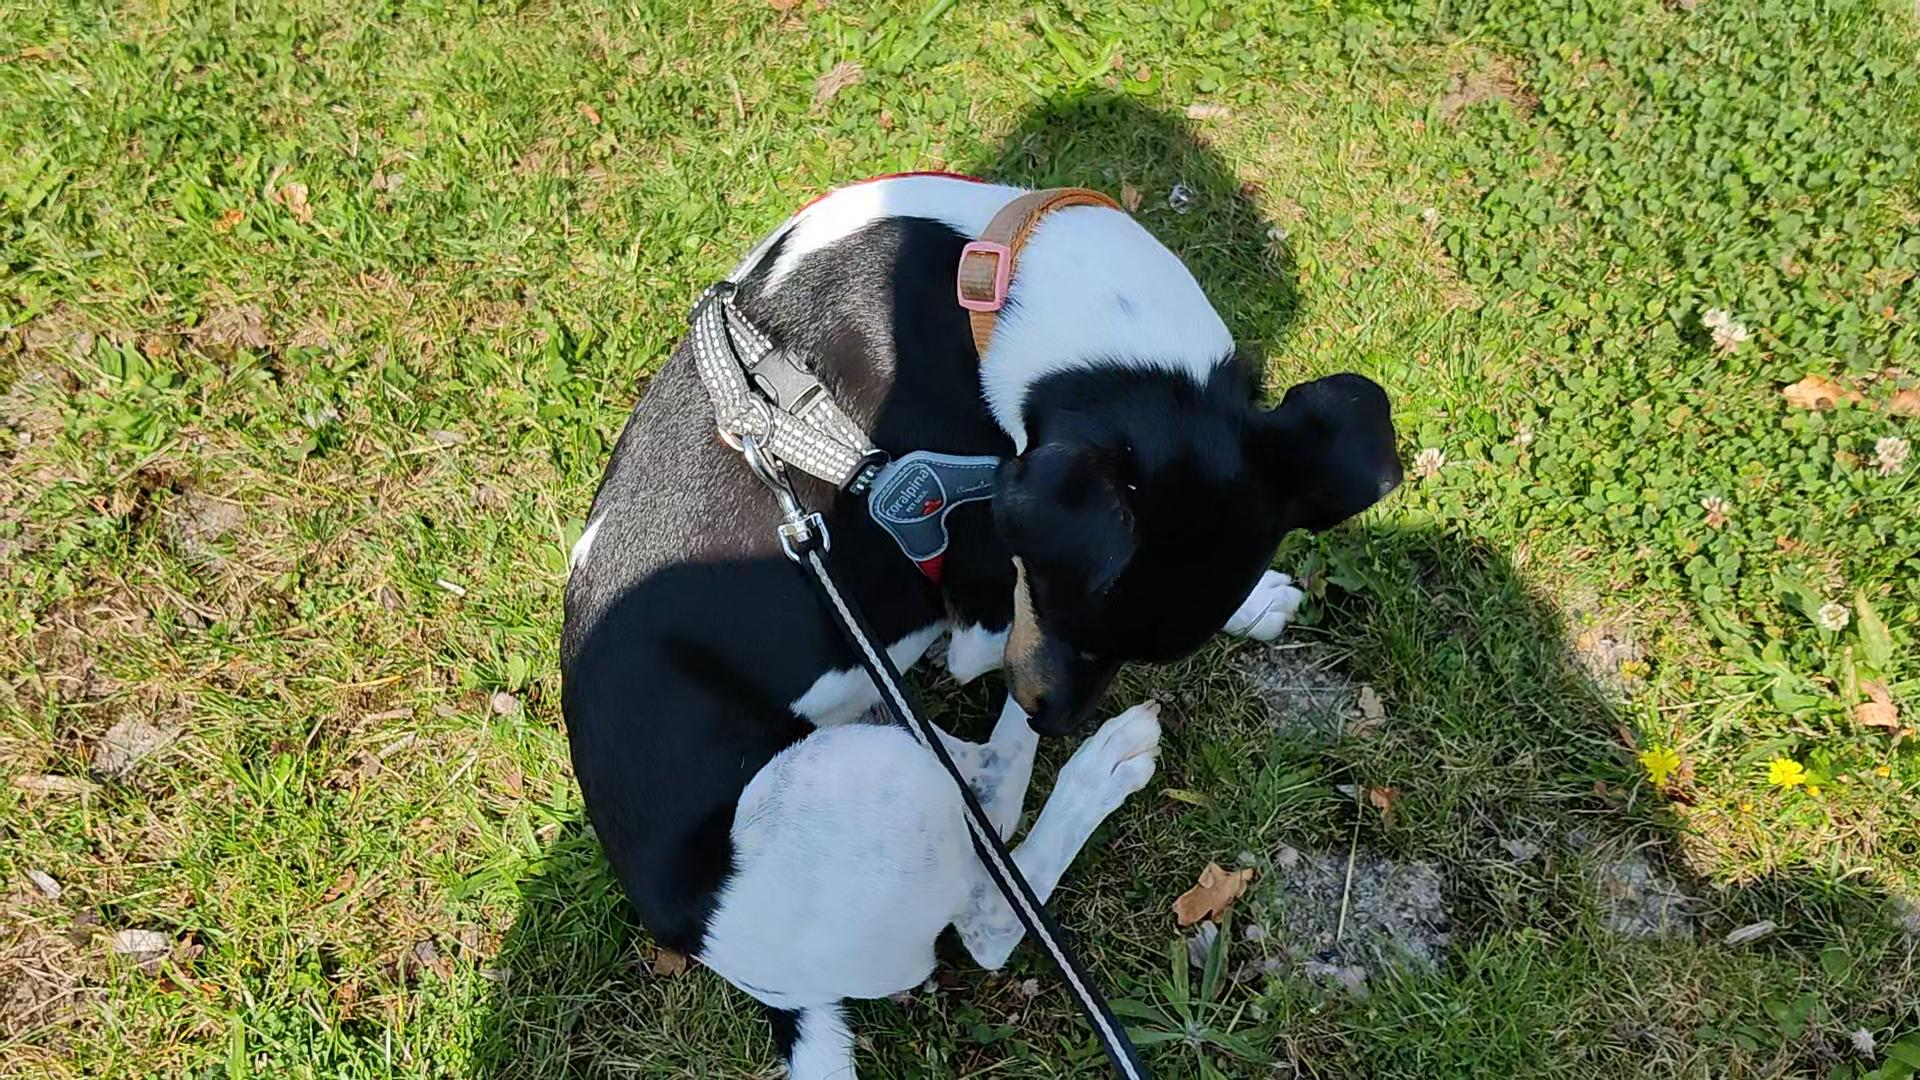Dog: (545, 160, 1404, 1079)
